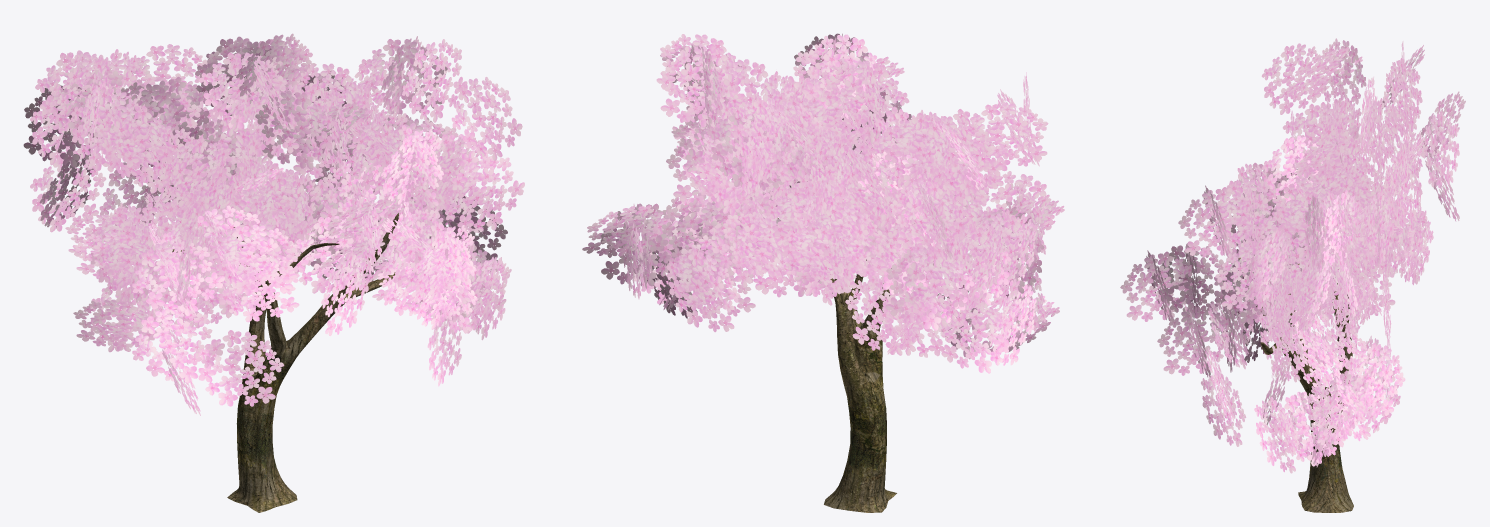
The model's file is tree6_1.FBX.
3 renders of one model, left to right at view 1: azimuth 30°, elevation 25°; view 2: azimuth 150°, elevation 25°; view 3: azimuth 270°, elevation 25°, orthographic. The views are drawn at different scales.
Visible parts, largest first — view 1: SakuraFlowers002, tree6uv001; view 2: SakuraFlowers002, tree6uv001; view 3: SakuraFlowers002, tree6uv001.
Boxes of the visible parts, x1,y1,x2,y2 form: SakuraFlowers002: [23, 33, 524, 415]; tree6uv001: [172, 213, 434, 512]; SakuraFlowers002: [582, 33, 1064, 373]; tree6uv001: [777, 218, 940, 512]; SakuraFlowers002: [1120, 38, 1465, 473]; tree6uv001: [1238, 257, 1353, 512].
Bounding box in the file's own units: 336 × 267 × 335.
